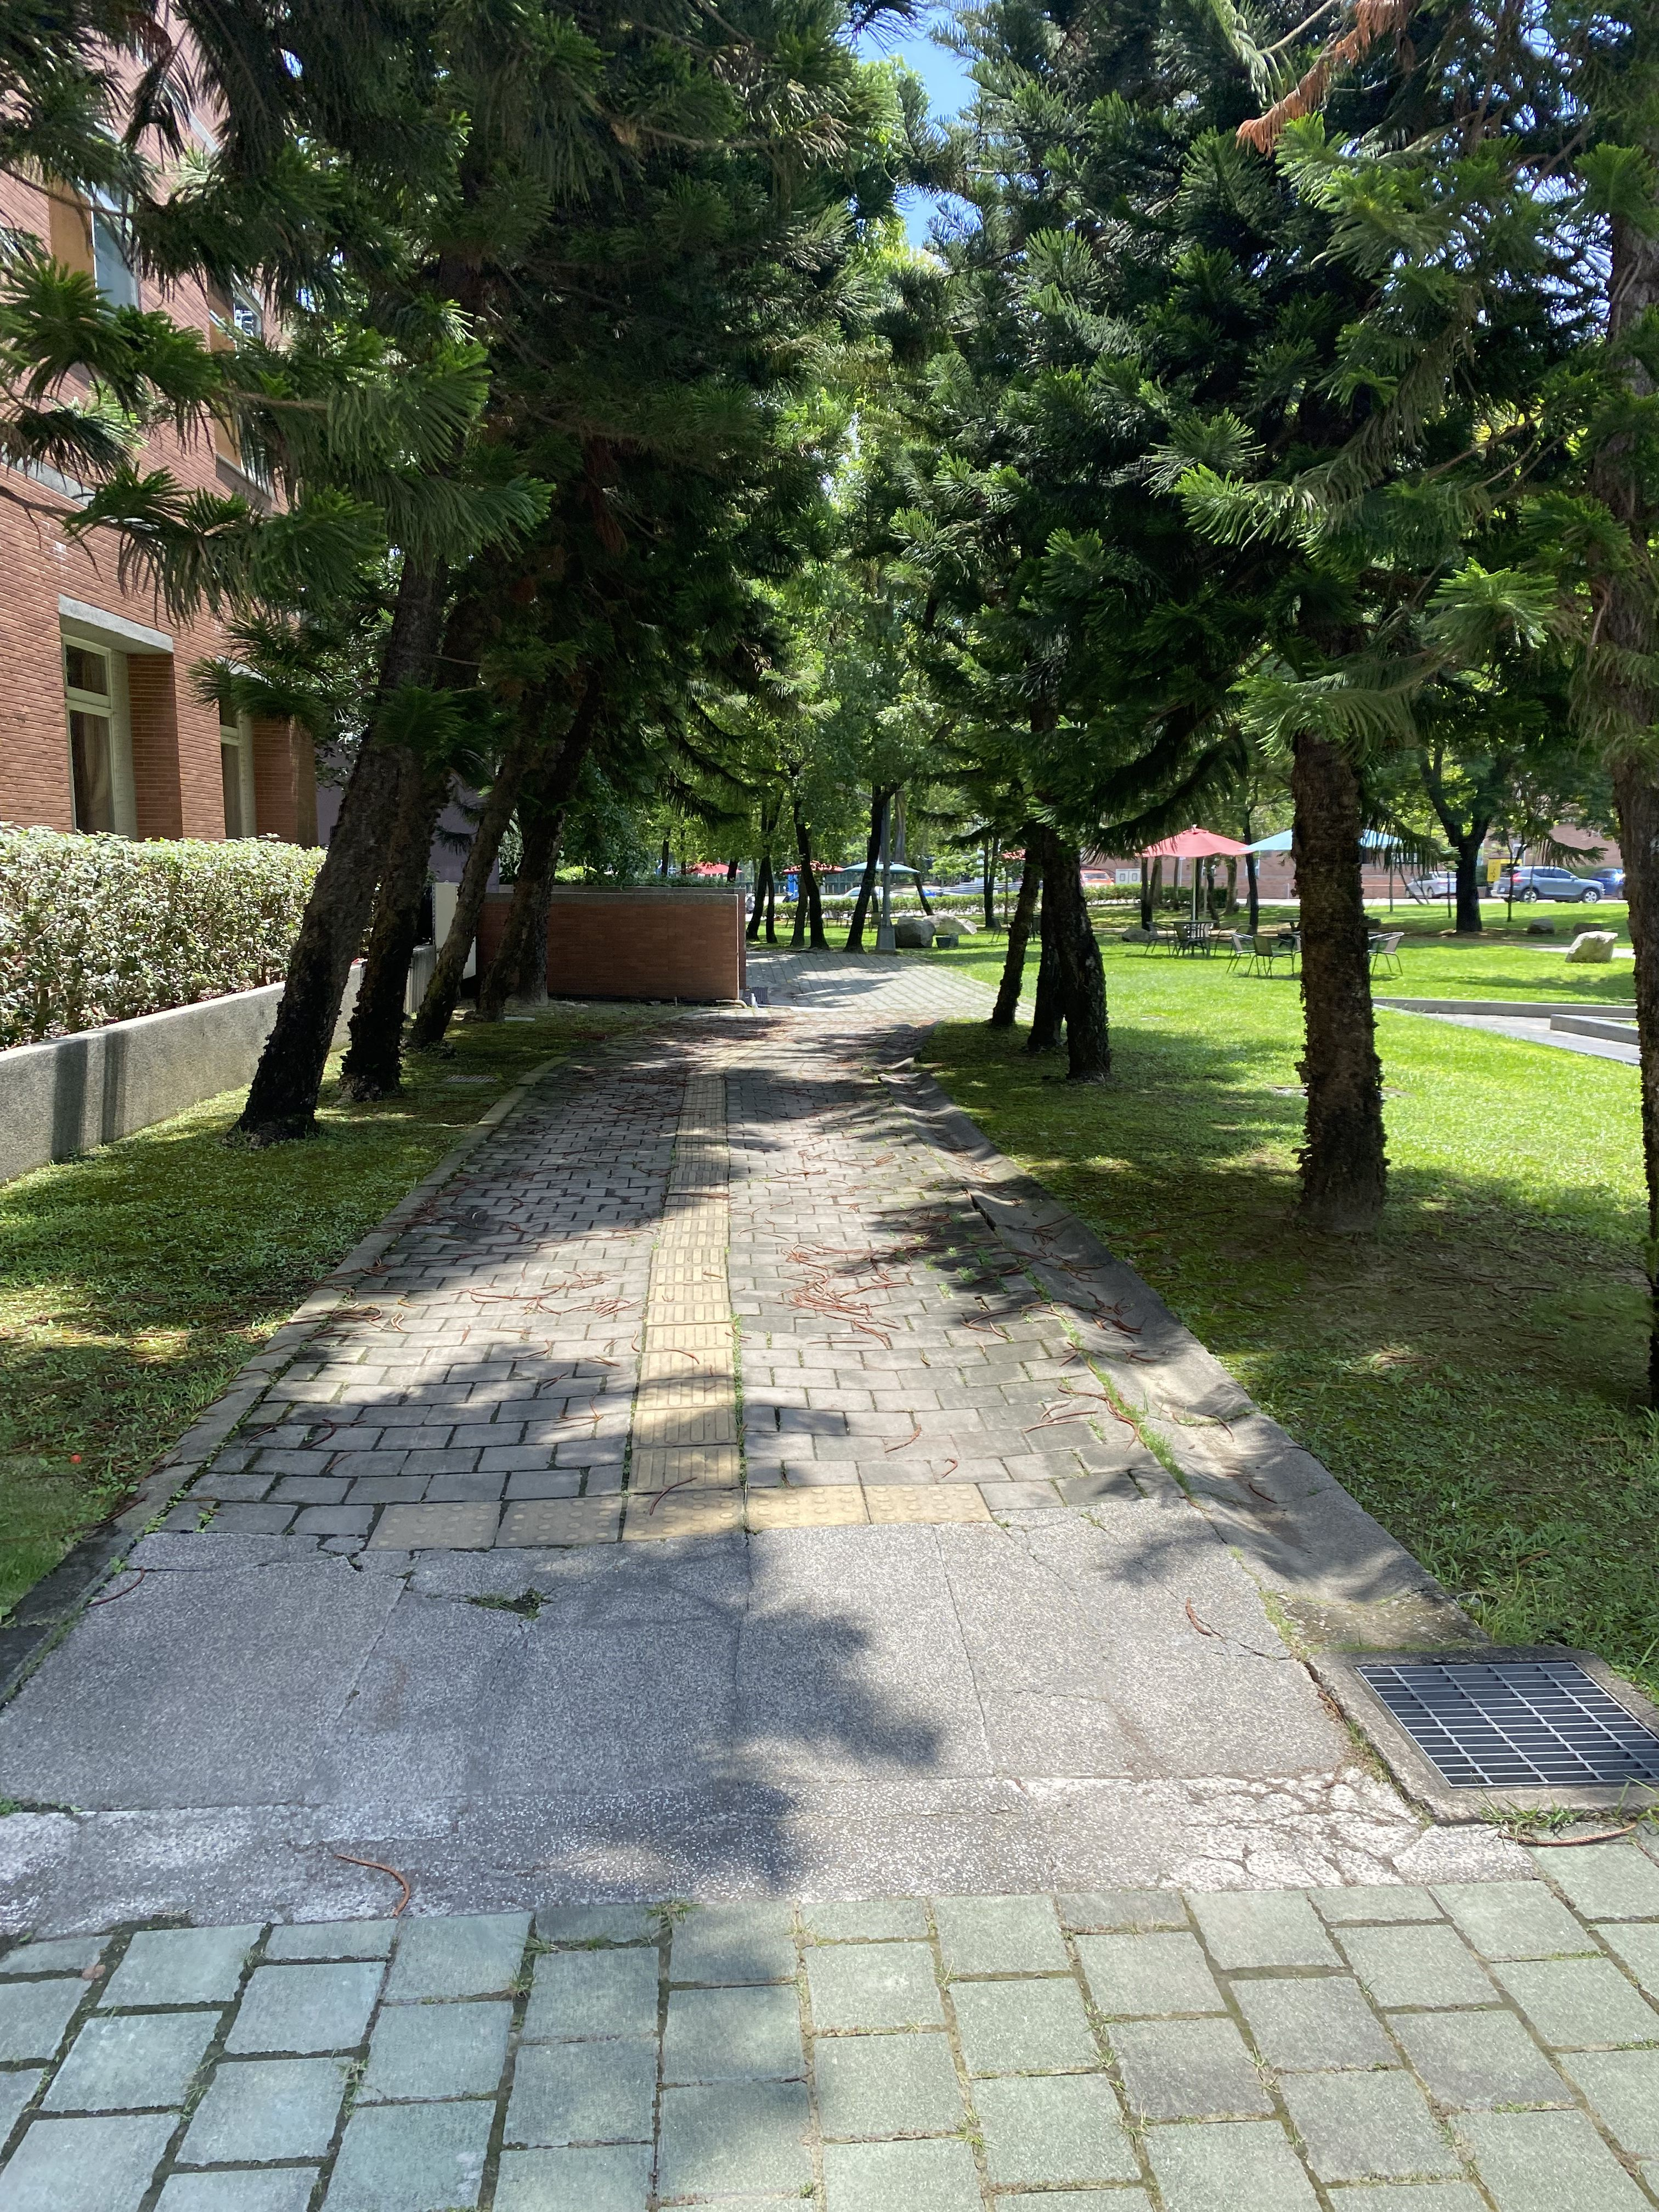0: (0, 1522, 1659, 2212)
sidewalk: (160, 855, 1558, 2036)
